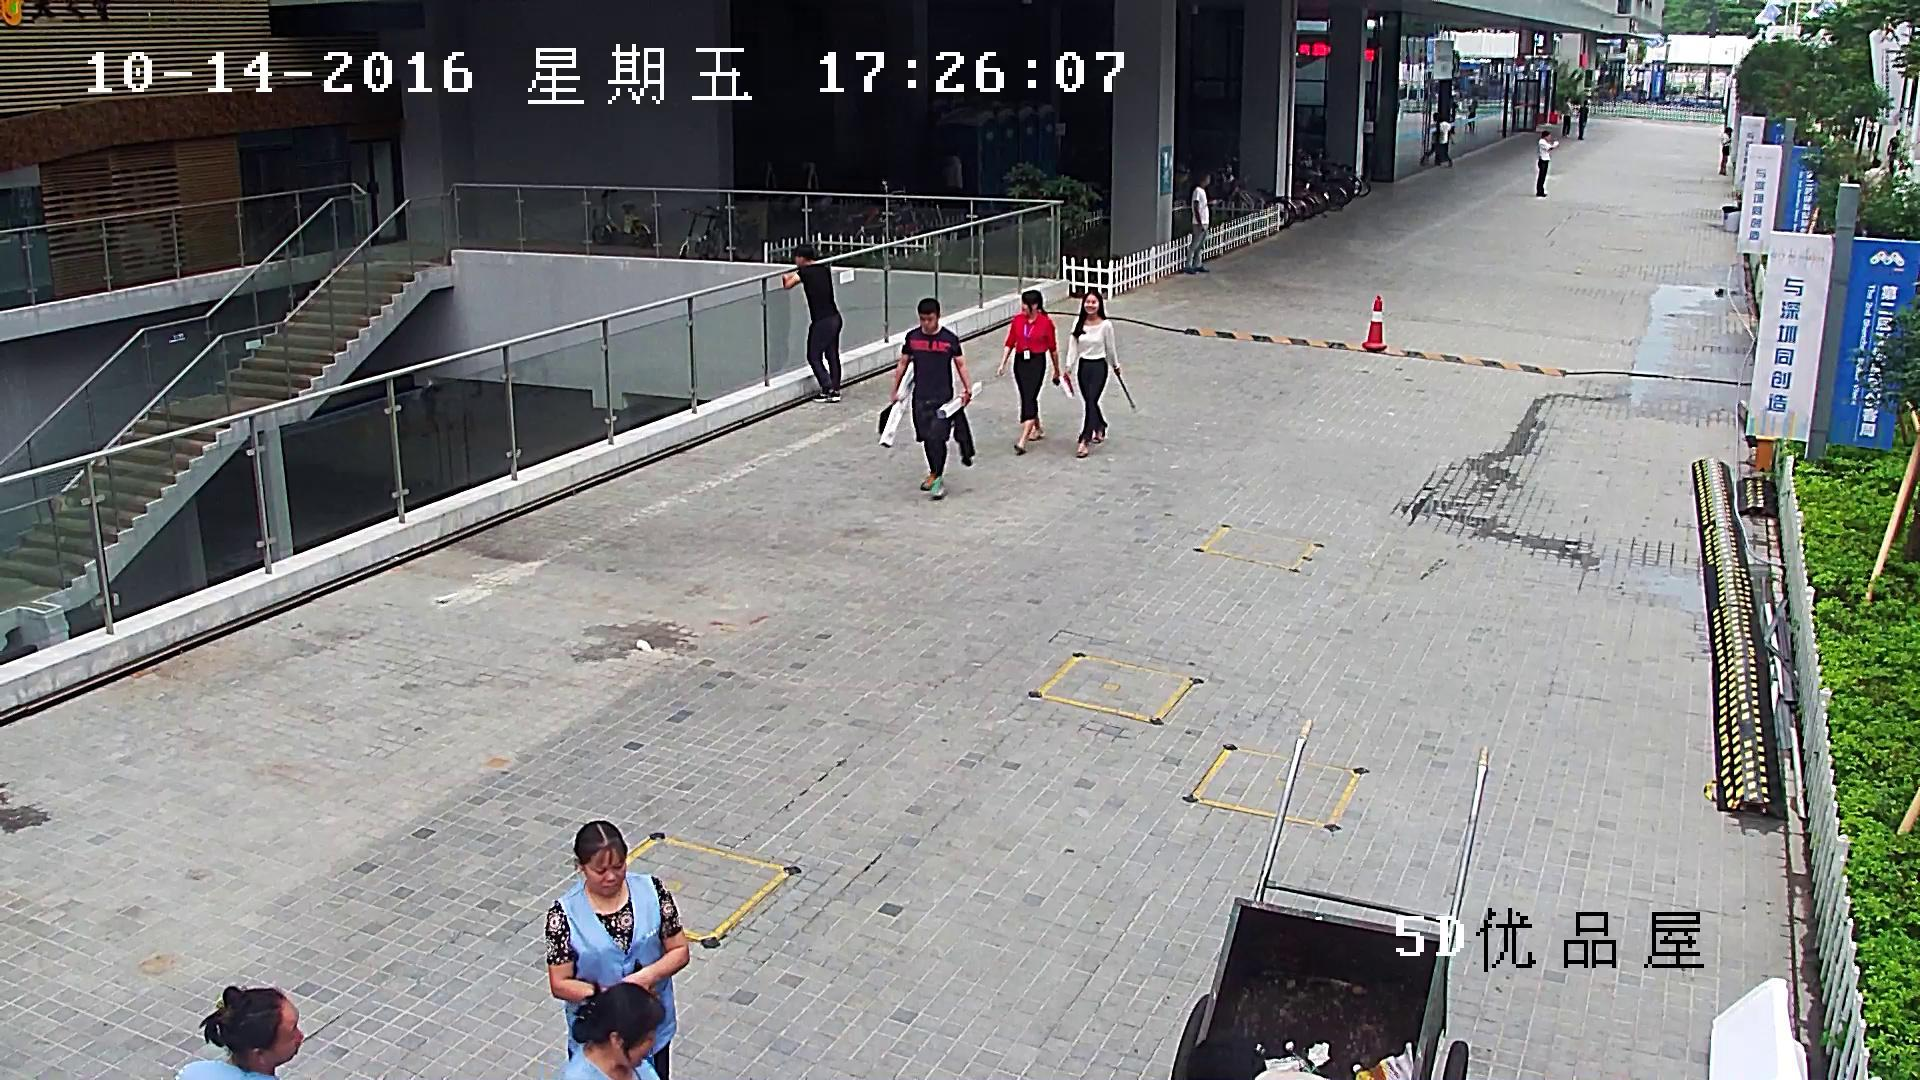person: (544, 822, 689, 1080), (878, 299, 974, 501), (888, 298, 965, 500), (1062, 291, 1135, 454), (995, 288, 1061, 452), (782, 243, 842, 404), (1185, 171, 1210, 274), (1535, 128, 1559, 198), (1435, 117, 1455, 168), (1720, 126, 1731, 175), (1576, 100, 1589, 139), (1561, 96, 1573, 139), (1468, 99, 1477, 134)
